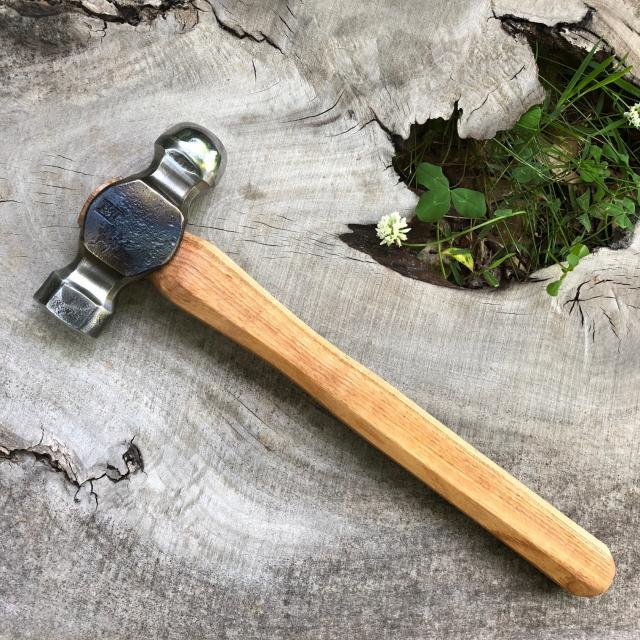hammer: (29, 113, 619, 604)
